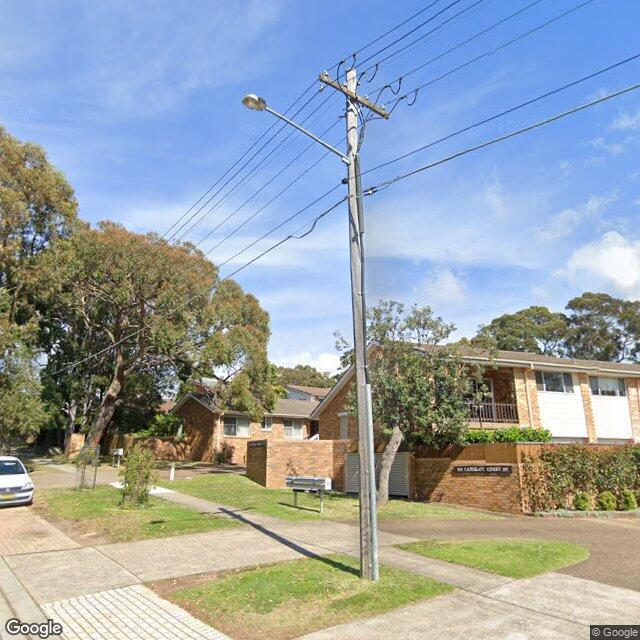crossarm: (318, 72, 388, 120)
streetlight: (242, 94, 350, 164)
timber-pole: (346, 69, 378, 582)
